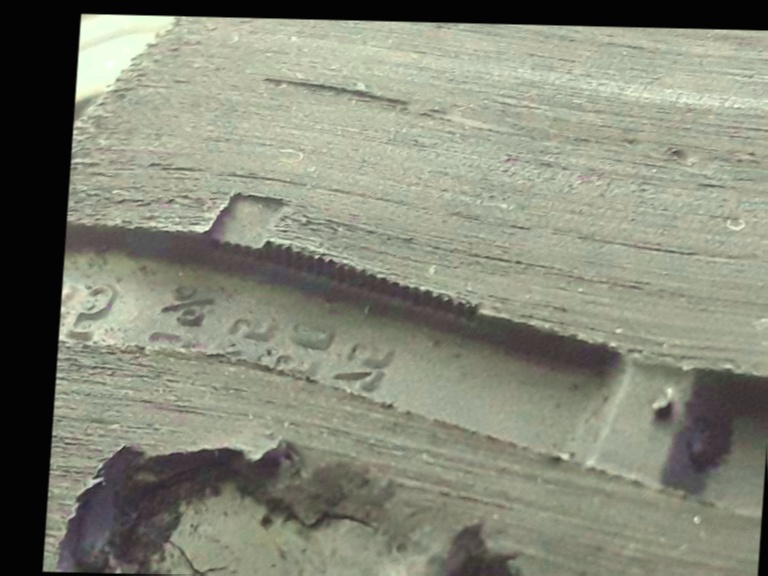temoin:0: (190, 174, 307, 295)
